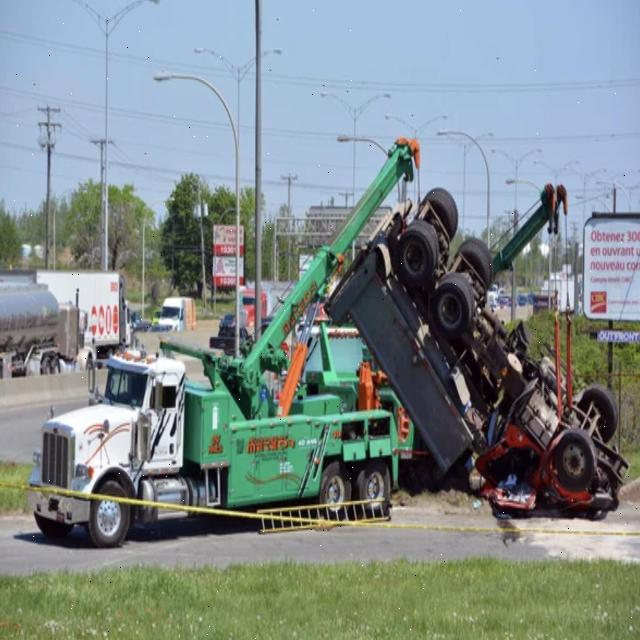severe: (321, 182, 629, 514)
